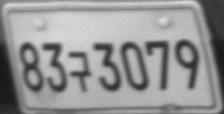0: (121, 40, 149, 91)
3: (93, 41, 121, 91), (44, 41, 68, 92)
7: (147, 39, 172, 91)
8: (18, 40, 44, 93)
9: (174, 38, 200, 90)
구: (68, 50, 92, 92)
